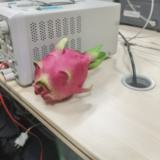pitaya: (35, 41, 104, 101)
